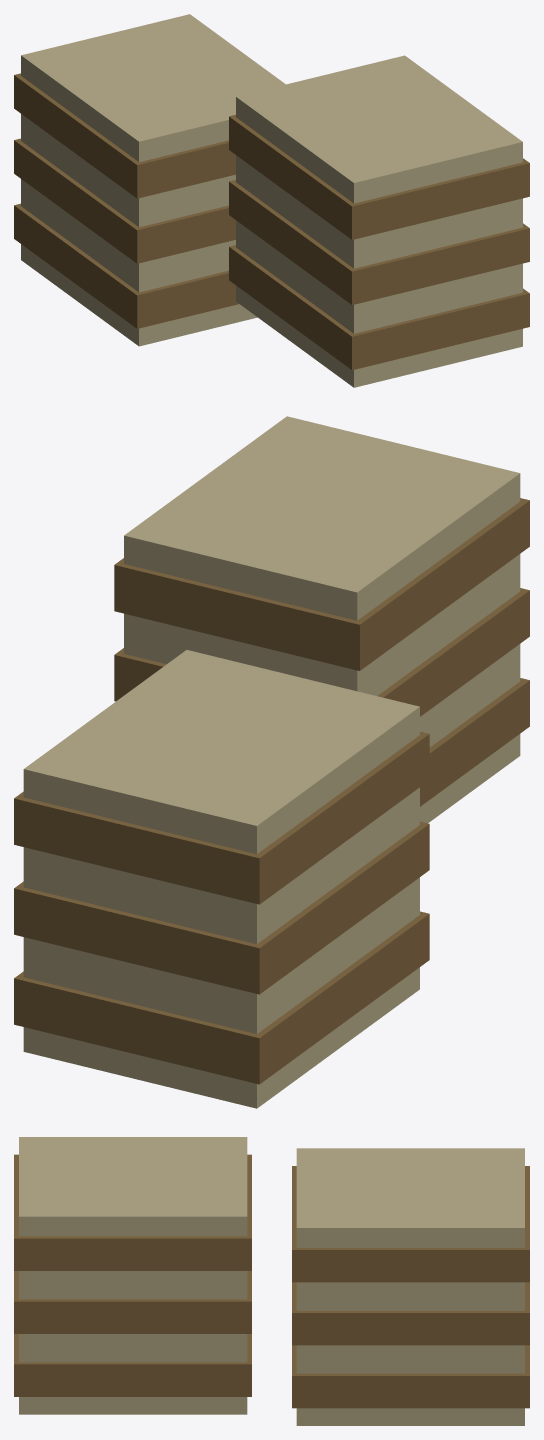
The model's file is knuckle_wraps.glb.
3 renders of one model, top to bottom at view 1: azimuth 30°, elevation 25°; view 2: azimuth 150°, elevation 25°; view 3: azimuth 270°, elevation 25°, orthographic. The views are drawn at different scales.
Parts seen in each view (by area): view 1: wrap_l, wrap_r; view 2: wrap_r, wrap_l; view 3: wrap_r, wrap_l.
Part boxes in pixels (bbox=[...]): wrap_l: bbox=[229, 55, 529, 387]; wrap_r: bbox=[14, 14, 285, 346]; wrap_r: bbox=[14, 650, 429, 1108]; wrap_l: bbox=[114, 416, 529, 823]; wrap_r: bbox=[292, 1148, 529, 1425]; wrap_l: bbox=[14, 1137, 251, 1414].
Size of the model in its own units: 0.14 by 0.135 by 0.26.
